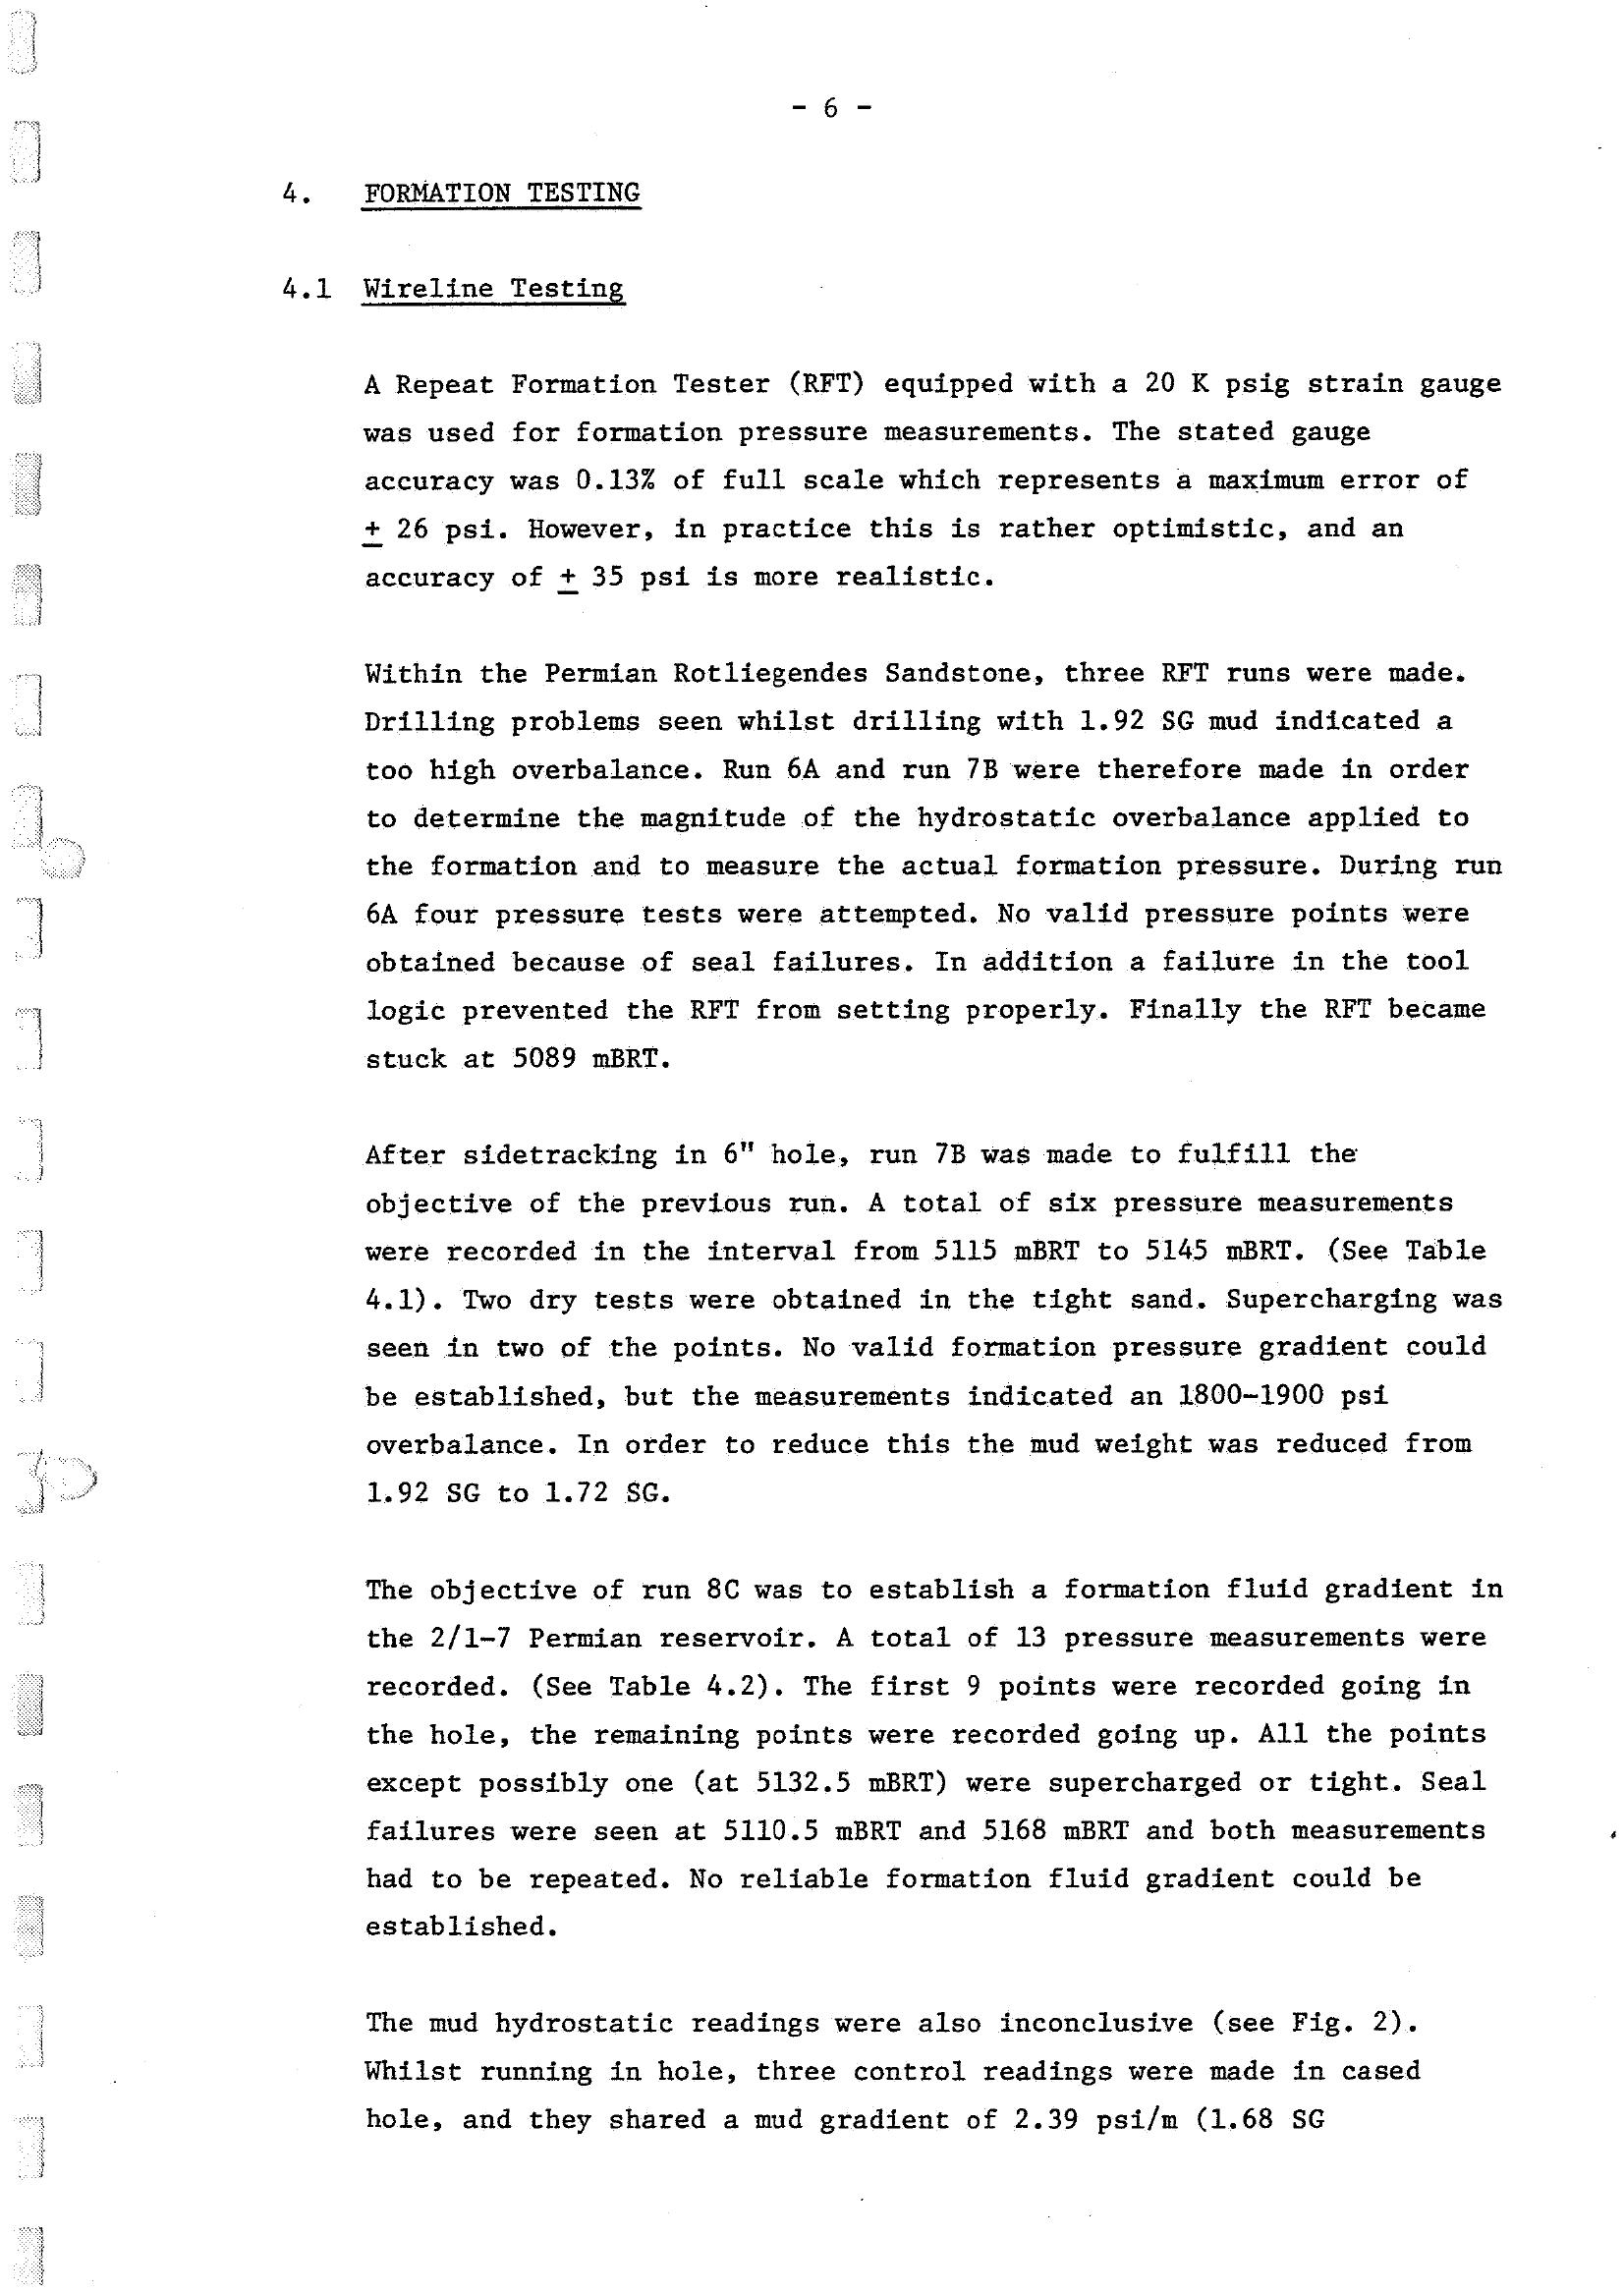text: (243, 160, 1543, 2172)
